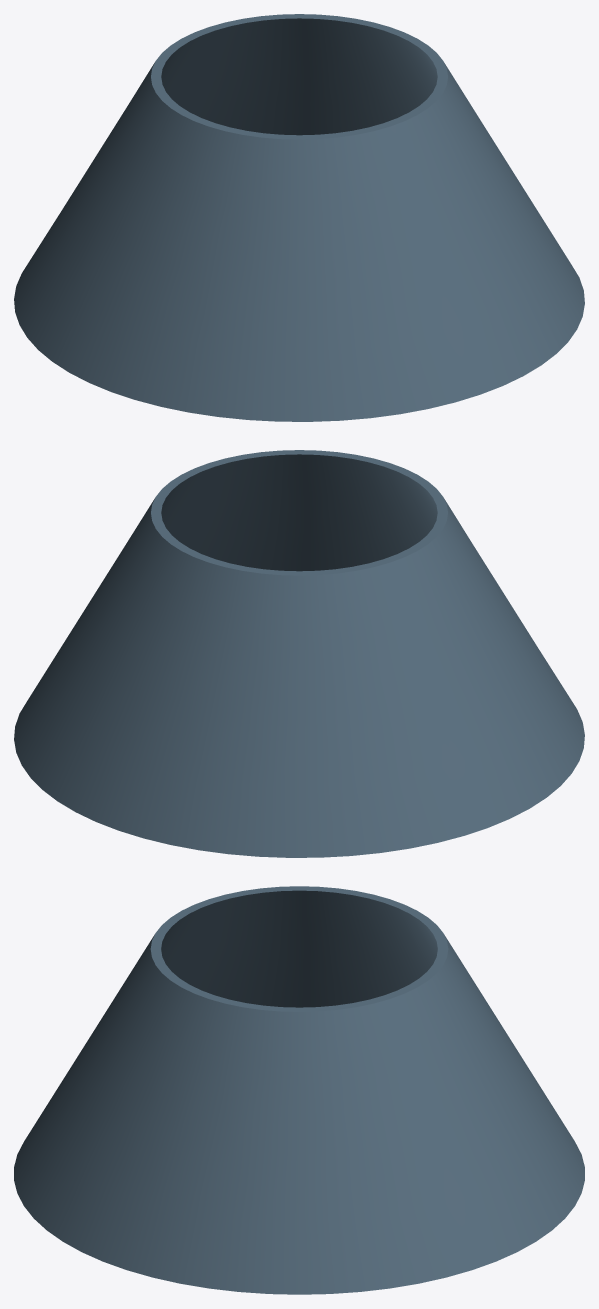
The model's file is perehod-219x6-114x4-L95.glb.
The picture shows the model from 3 angles, top to bottom: view 1: azimuth 30°, elevation 25°; view 2: azimuth 150°, elevation 25°; view 3: azimuth 270°, elevation 25°; orthographic projection.
Visible parts, largest first — view 1: Open CASCADE STEP translator 7.9 40; view 2: Open CASCADE STEP translator 7.9 40; view 3: Open CASCADE STEP translator 7.9 40.
Part boxes in pixels (x1,y1,x2,y2): Open CASCADE STEP translator 7.9 40: (14,14,584,421); Open CASCADE STEP translator 7.9 40: (14,450,584,857); Open CASCADE STEP translator 7.9 40: (14,886,584,1294).
Size of the model in its own units: 219 by 95 by 219.
